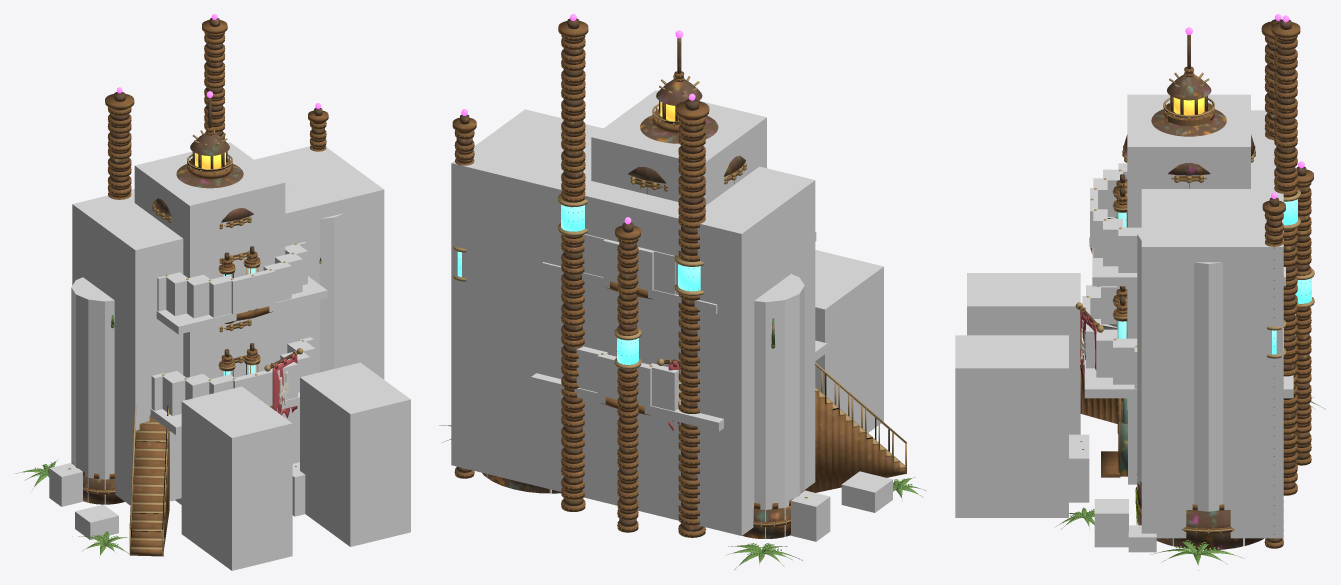
File: refinery_tower.glb
The picture shows the model from 3 angles, left to right: view 1: azimuth 30°, elevation 25°; view 2: azimuth 150°, elevation 25°; view 3: azimuth 270°, elevation 25°; orthographic projection. The views are drawn at different scales.
Parts seen in each view (by area): view 1: col_bld_refinery_tower_pipes, col_bld_POST_streetlamp_cyan_i, col_bld_POST_streetlamp_cyan_i.001, col_bld_refinery_tower_T_core_14, refinery_tower_body_a, col_bld_refinery_tower_goo_small, refinery_tower_body_b, col_bld_refinery_tower_goo_big, col_deck_refinery_tower_deck2, col_bld_PROP_barrel_i.013, col_bld_PROP_crate_m_i.013, col_bld_refinery_tower_deck2_14 (+12 smaller); view 2: col_bld_refinery_tower_pipes, refinery_tower_body_a, refinery_tower_body_b, col_bld_refinery_tower_goo_small, col_bld_POST_streetlamp_cyan_i, col_bld_refinery_tower_T_core_14, refinery_tower_plain, col_deck_refinery_tower_deck1, col_bld_PROP_barrel_i.013, col_bld_PROP_crate_m_i.013, col_deck_refinery_tower_deck2, col_bld_refinery_tower_deck1_7 (+7 smaller); view 3: col_bld_refinery_tower_pipes, col_bld_POST_streetlamp_cyan_i.001, refinery_tower_body_b, col_bld_refinery_tower_T_core_14, refinery_tower_body_a, col_bld_refinery_tower_goo_big, col_bld_POST_streetlamp_cyan_i, refinery_tower_plain, col_bld_PROP_barrel_i.014, col_bld_CRATE_stack_i, col_deck_refinery_tower_deck1, col_bld_refinery_tower_deck1_19 (+9 smaller).
Part boxes in pixels (left/top/right/bottom): col_bld_refinery_tower_pipes: left=72, top=146, right=384, bottom=505; col_bld_POST_streetlamp_cyan_i: left=181, top=386, right=292, bottom=570; col_bld_POST_streetlamp_cyan_i.001: left=300, top=362, right=410, bottom=546; col_bld_refinery_tower_T_core_14: left=134, top=142, right=285, bottom=416; refinery_tower_body_a: left=15, top=92, right=277, bottom=556; col_bld_refinery_tower_goo_small: left=71, top=277, right=114, bottom=504; refinery_tower_body_b: left=202, top=18, right=328, bottom=466; col_bld_refinery_tower_goo_big: left=319, top=213, right=345, bottom=372; col_deck_refinery_tower_deck2: left=156, top=276, right=327, bottom=334; col_bld_PROP_barrel_i.013: left=49, top=463, right=82, bottom=506; col_bld_PROP_crate_m_i.013: left=75, top=504, right=118, bottom=539; col_bld_refinery_tower_deck2_14: left=187, top=274, right=212, bottom=318; col_bld_refinery_tower_pipes: left=451, top=109, right=815, bottom=535; refinery_tower_body_a: left=601, top=38, right=926, bottom=569; refinery_tower_body_b: left=439, top=18, right=666, bottom=511; col_bld_refinery_tower_goo_small: left=754, top=274, right=804, bottom=538; col_bld_POST_streetlamp_cyan_i: left=815, top=250, right=883, bottom=432; col_bld_refinery_tower_T_core_14: left=591, top=90, right=766, bottom=205; refinery_tower_plain: left=457, top=14, right=700, bottom=404; col_deck_refinery_tower_deck1: left=531, top=340, right=827, bottom=431; col_bld_PROP_barrel_i.013: left=791, top=490, right=830, bottom=541; col_bld_PROP_crate_m_i.013: left=841, top=471, right=892, bottom=512; col_deck_refinery_tower_deck2: left=542, top=231, right=816, bottom=314; col_bld_refinery_tower_deck1_7: left=649, top=363, right=678, bottom=411; col_bld_refinery_tower_pipes: left=1141, top=110, right=1283, bottom=538; col_bld_POST_streetlamp_cyan_i.001: left=955, top=335, right=1068, bottom=517; refinery_tower_body_b: left=1056, top=19, right=1300, bottom=570; col_bld_refinery_tower_T_core_14: left=1127, top=94, right=1250, bottom=409; refinery_tower_body_a: left=1075, top=19, right=1325, bottom=474; col_bld_refinery_tower_goo_big: left=1137, top=227, right=1244, bottom=546; col_bld_POST_streetlamp_cyan_i: left=967, top=273, right=1080, bottom=434; refinery_tower_plain: left=1080, top=14, right=1311, bottom=365; col_bld_PROP_barrel_i.014: left=1094, top=499, right=1128, bottom=547; col_bld_CRATE_stack_i: left=1069, top=434, right=1089, bottom=502; col_deck_refinery_tower_deck1: left=1084, top=324, right=1293, bottom=398; col_bld_refinery_tower_deck1_19: left=1113, top=338, right=1137, bottom=384.
Bounding box in the file's own units: 12.44 × 13.89 × 9.58.
Materials: 23 (6 with a texture image).
